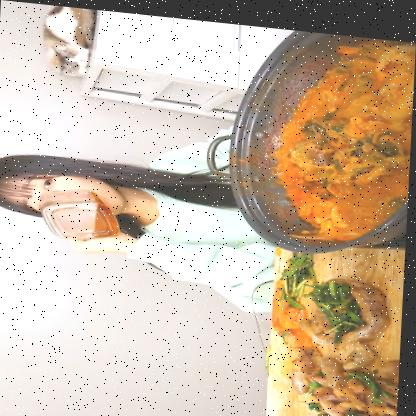streamer: (0, 99, 282, 308)
